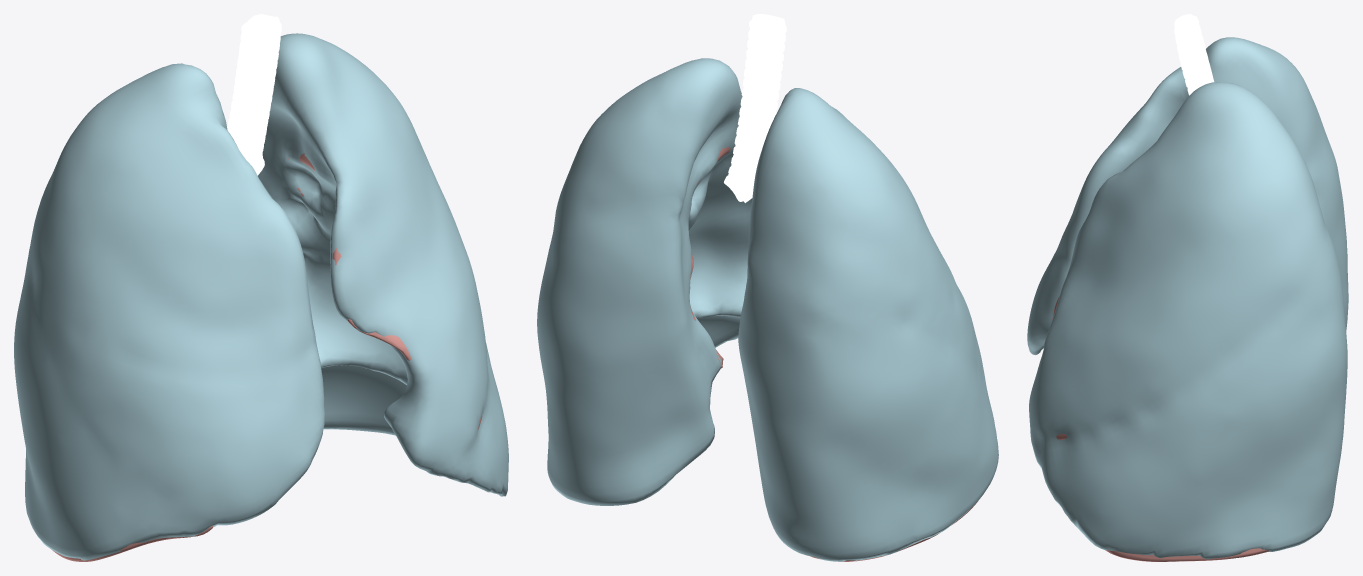
Rendered from body-respiratory.glb.
The picture shows the model from 3 angles, left to right: view 1: azimuth 30°, elevation 25°; view 2: azimuth 150°, elevation 25°; view 3: azimuth 270°, elevation 25°; orthographic projection. The views are drawn at different scales.
Visible parts, largest first — view 1: Pleura, Trachea, Superior lobe of left lung; view 2: Pleura, Trachea; view 3: Pleura, Trachea, Inferior lobe of left lung.
Boxes of the visible parts, bbox=[...] form: Pleura: bbox=[14, 33, 508, 560]; Trachea: bbox=[227, 14, 281, 175]; Superior lobe of left lung: bbox=[285, 153, 482, 429]; Pleura: bbox=[537, 58, 998, 561]; Trachea: bbox=[724, 14, 786, 202]; Pleura: bbox=[1027, 37, 1348, 559]; Trachea: bbox=[1174, 14, 1214, 95]; Inferior lobe of left lung: bbox=[1105, 548, 1269, 561].
Bounding box in the file's own units: 0.2634 × 0.2936 × 0.1882.
